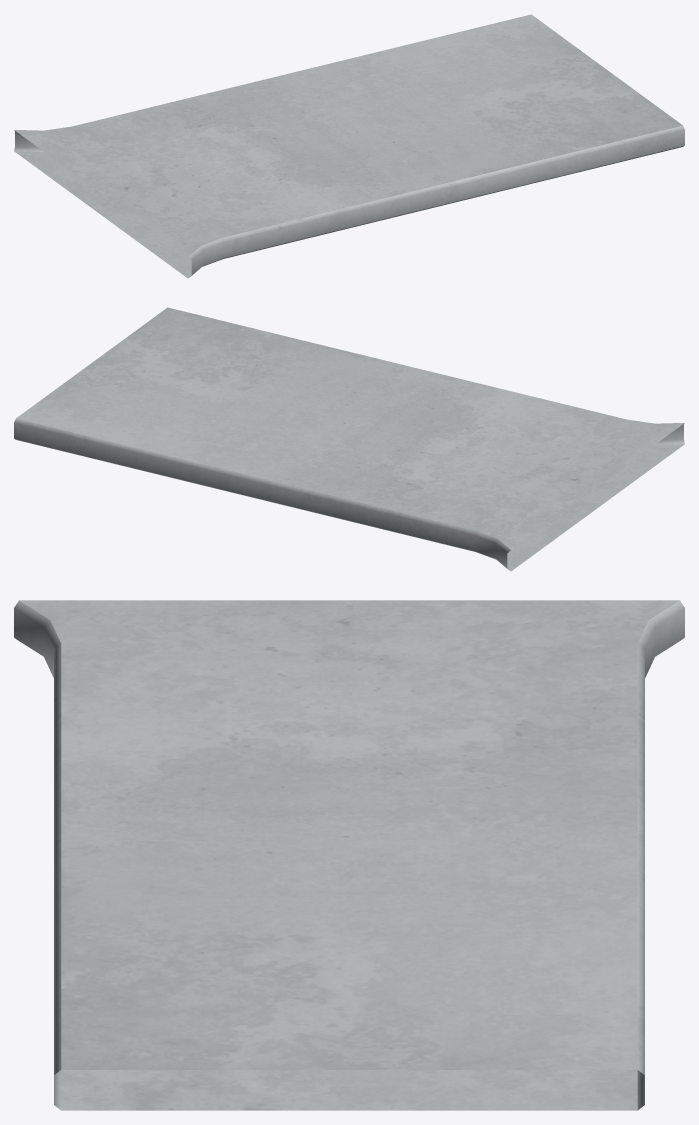
Rendered from Bridge_MidStrip.fbx.
The picture shows the model from 3 angles, top to bottom: view 1: azimuth 30°, elevation 25°; view 2: azimuth 150°, elevation 25°; view 3: azimuth 270°, elevation 25°; orthographic projection. The views are drawn at different scales.
Parts seen in each view (by area): view 1: Bridge_MidStrip; view 2: Bridge_MidStrip; view 3: Bridge_MidStrip.
Part boxes in pixels (x1,y1,x2,y2): Bridge_MidStrip: [14, 14, 684, 278]; Bridge_MidStrip: [14, 307, 684, 571]; Bridge_MidStrip: [14, 600, 684, 1110].
Size of the model in its own units: 15.41 by 0.6233 by 9.31.
Materials: 1 (1 with a texture image).
